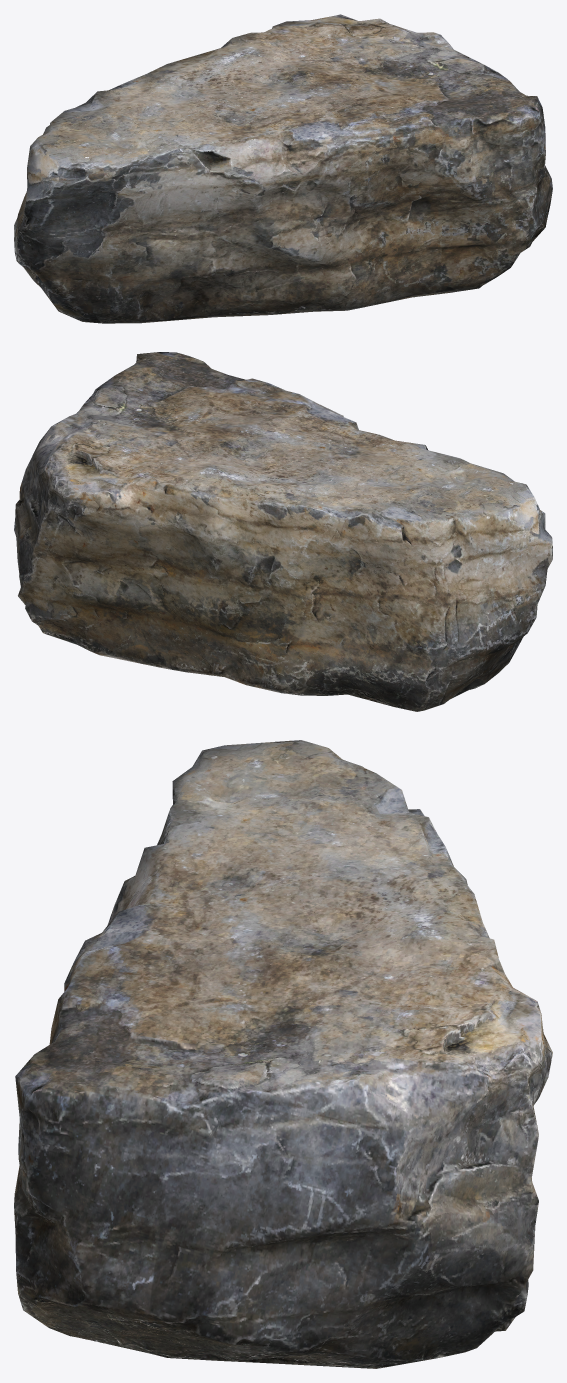
The model's file is SM_rock_medium1.fbx.
3 views of the same model, one above another, from view 1: azimuth 30°, elevation 25°; view 2: azimuth 150°, elevation 25°; view 3: azimuth 270°, elevation 25° (orthographic). The views are drawn at different scales.
Visible parts, largest first — view 1: SM_rock_medium1; view 2: SM_rock_medium1; view 3: SM_rock_medium1.
Part boxes in pixels (left/top/right/bottom): SM_rock_medium1: left=14, top=14, right=552, bottom=323; SM_rock_medium1: left=14, top=352, right=552, bottom=711; SM_rock_medium1: left=14, top=740, right=552, bottom=1368.
Bounding box in the file's own units: 264 × 98.51 × 154.
